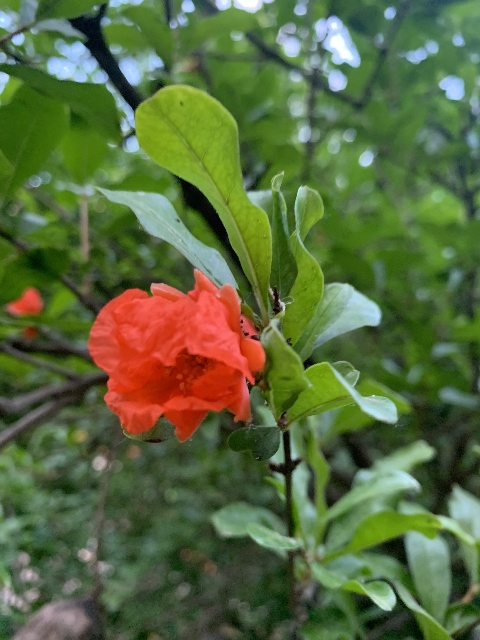flower: (87, 268, 264, 442)
